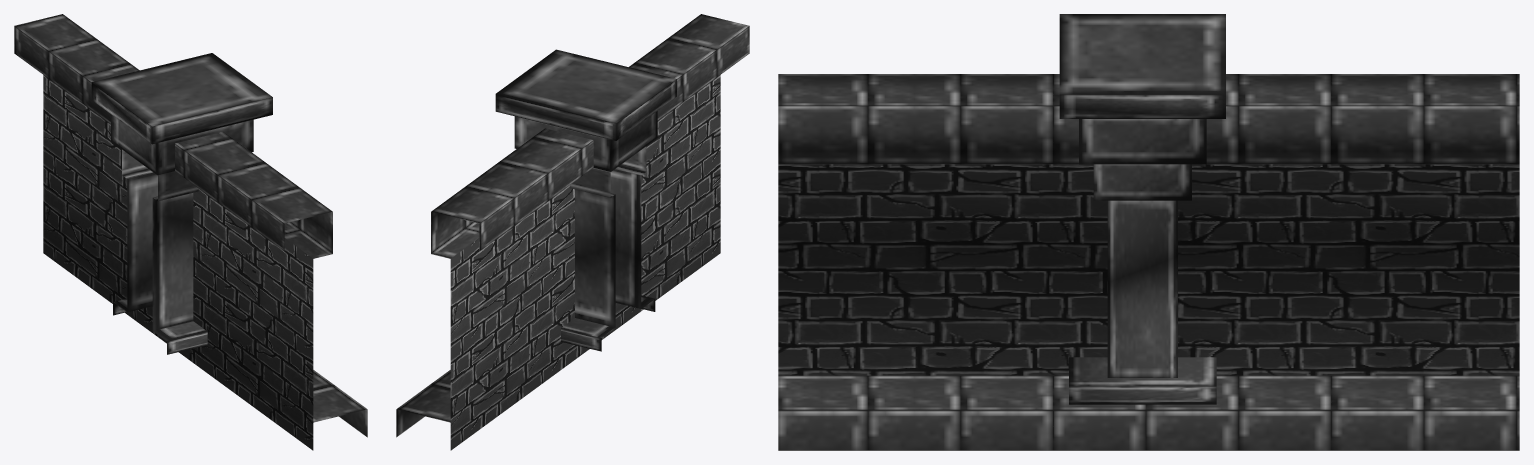
Rendered from wallpartS.obj.
3 renders of one model, left to right at view 1: azimuth 30°, elevation 25°; view 2: azimuth 150°, elevation 25°; view 3: azimuth 270°, elevation 25°, orthographic. The views are drawn at different scales.
Parts seen in each view (by area): view 1: Plane.001; view 2: Plane.001; view 3: Plane.001.
Boxes of the visible parts, bbox=[...] form: Plane.001: bbox=[14, 14, 367, 450]; Plane.001: bbox=[396, 14, 749, 450]; Plane.001: bbox=[778, 14, 1519, 450].
Size of the model in its own units: 3.56 by 7.42 by 13.79.
